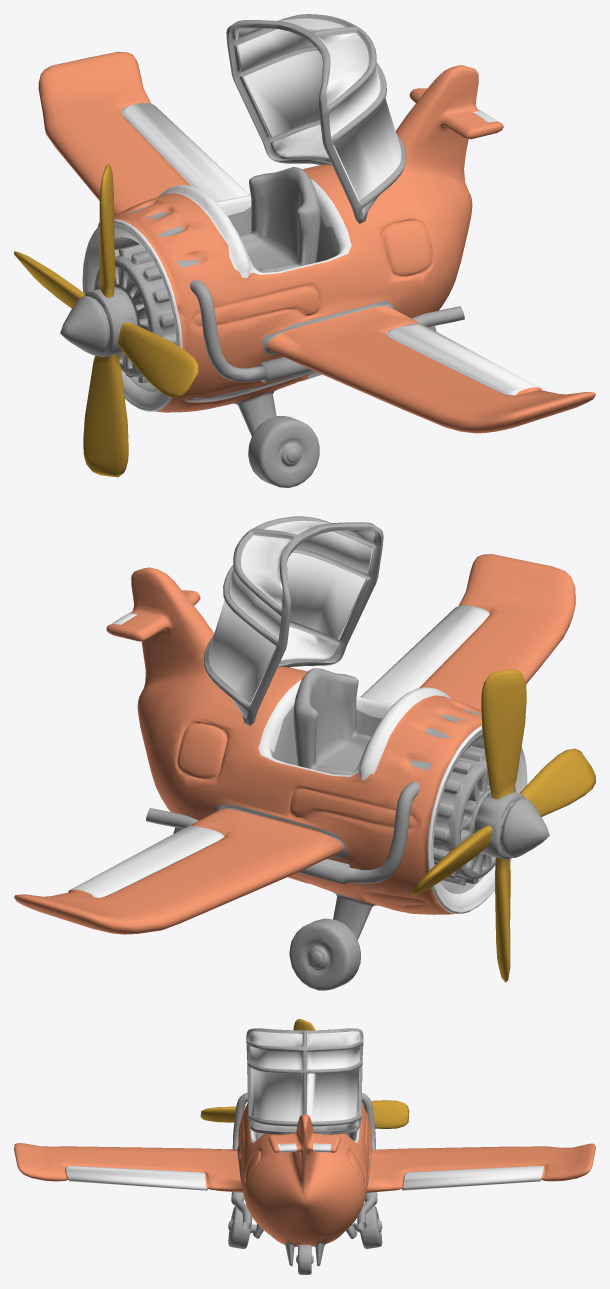
Rendered from plane_LODs.fbx.
3 views of the same model, one above another, from view 1: azimuth 30°, elevation 25°; view 2: azimuth 150°, elevation 25°; view 3: azimuth 270°, elevation 25° (orthographic). The views are drawn at different scales.
Parts seen in each view (by area): view 1: cartoon_plane_01_LOD0; view 2: cartoon_plane_01_LOD0; view 3: cartoon_plane_01_LOD0.
Part boxes in pixels (bbox=[...]): cartoon_plane_01_LOD0: bbox=[14, 14, 595, 487]; cartoon_plane_01_LOD0: bbox=[14, 516, 595, 990]; cartoon_plane_01_LOD0: bbox=[14, 1019, 595, 1274].
Size of what is drawn, in the model's own units: 409 by 366 by 801.
